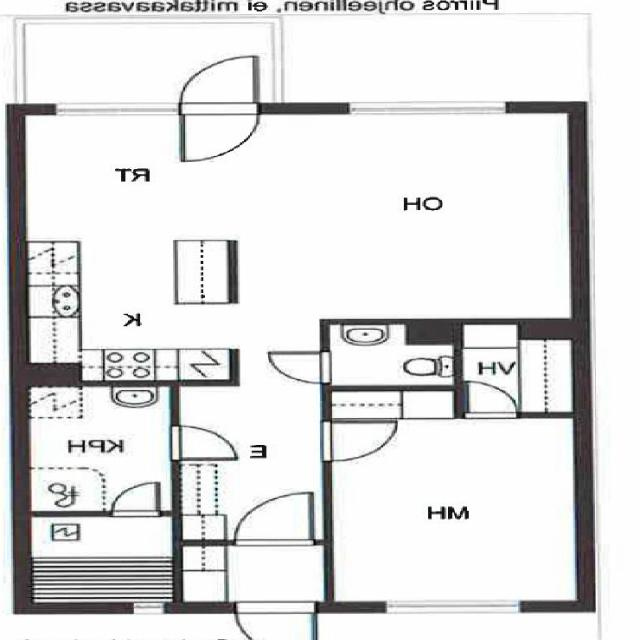door: (182, 56, 258, 114), (182, 103, 258, 159), (235, 494, 312, 545), (237, 601, 316, 640), (320, 422, 396, 461), (173, 426, 240, 459), (269, 352, 330, 382), (468, 384, 515, 418), (112, 482, 159, 516)
